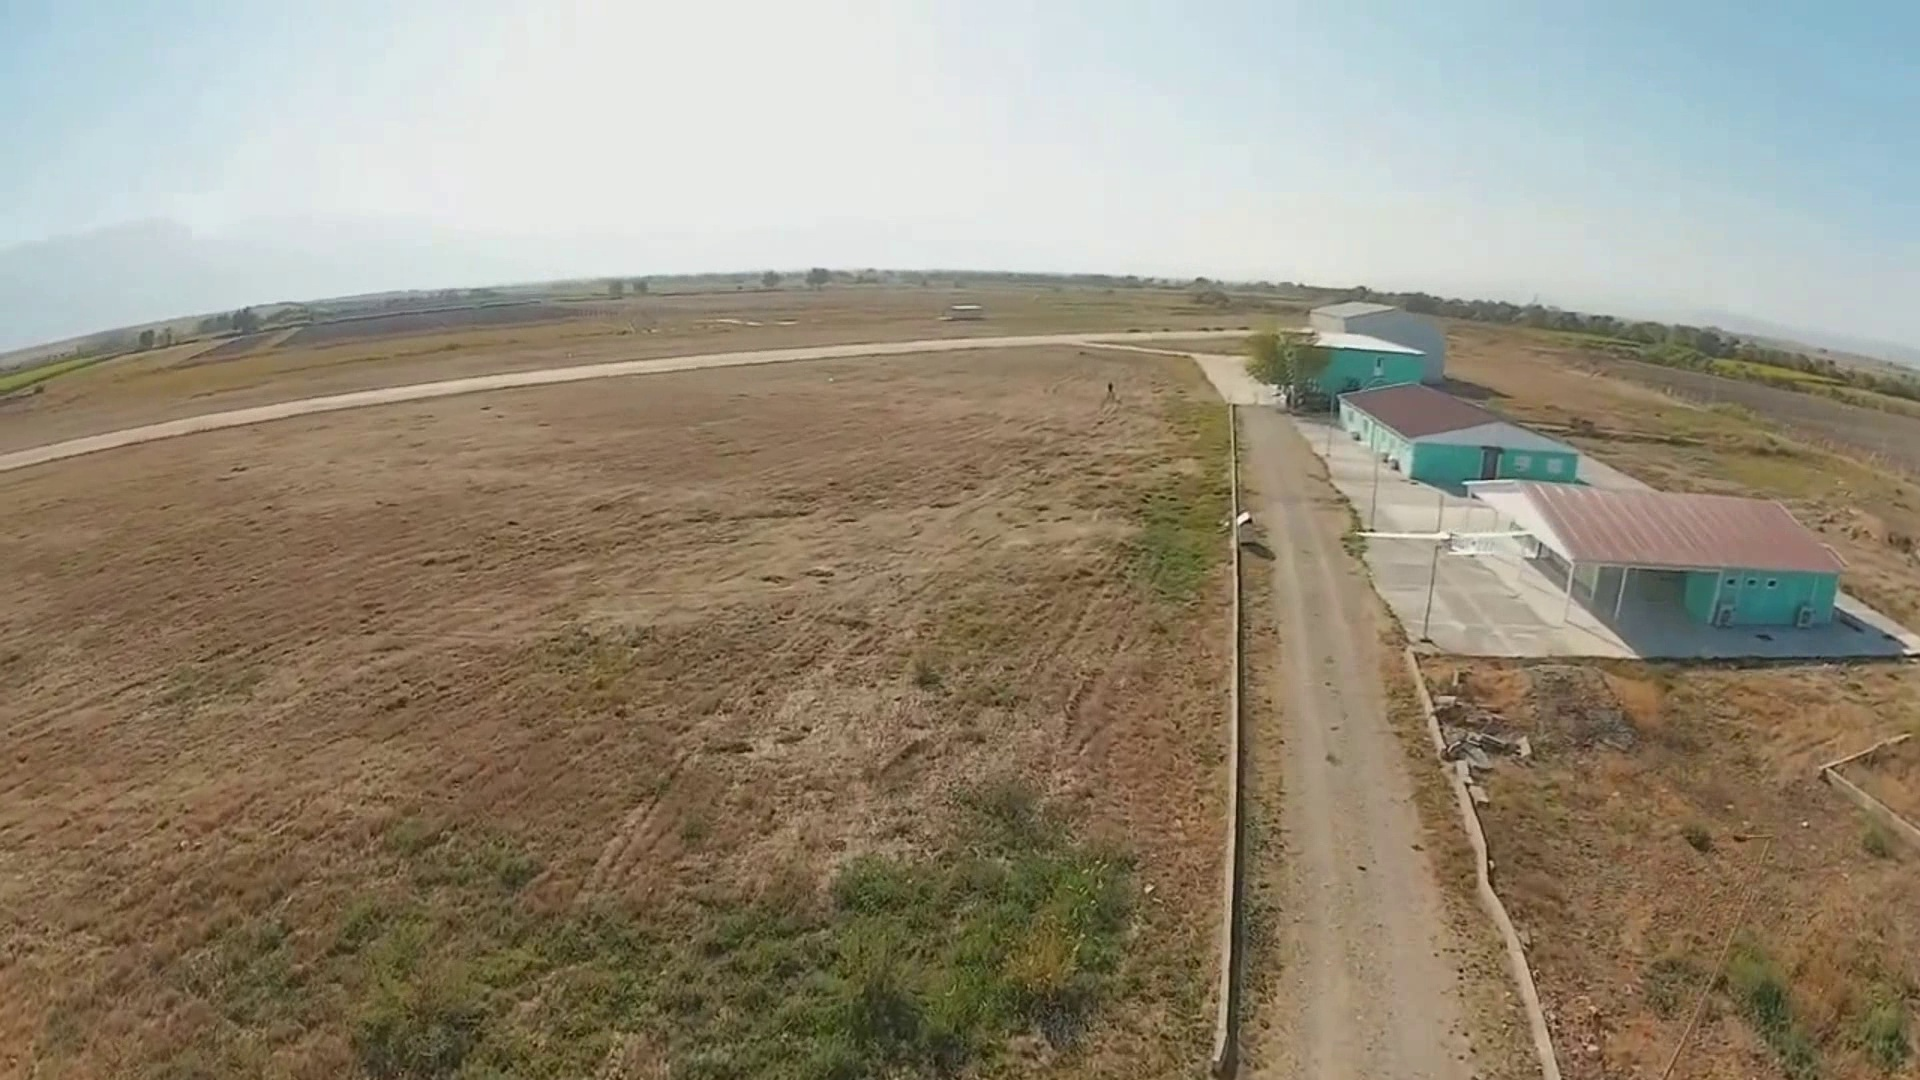airplane: (1337, 375, 1916, 662)
